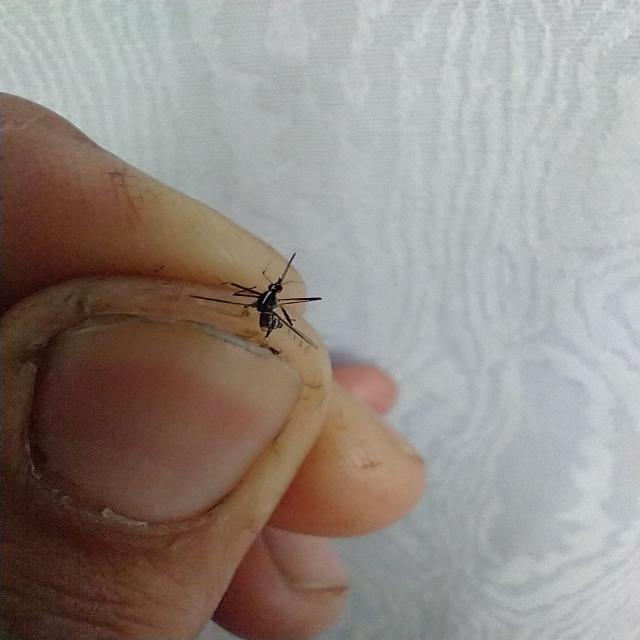albopictus: (188, 245, 331, 354)
